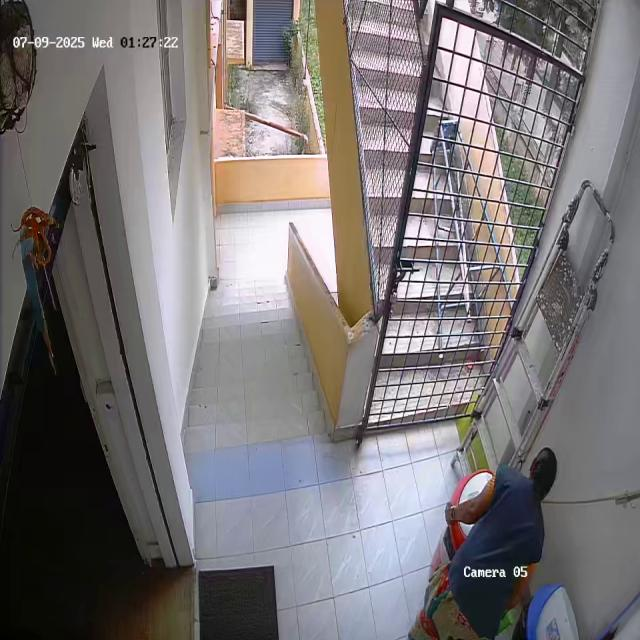person: (454, 444, 564, 640)
